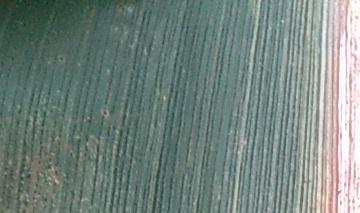tarspot: (100, 108, 112, 118), (57, 54, 66, 63)
